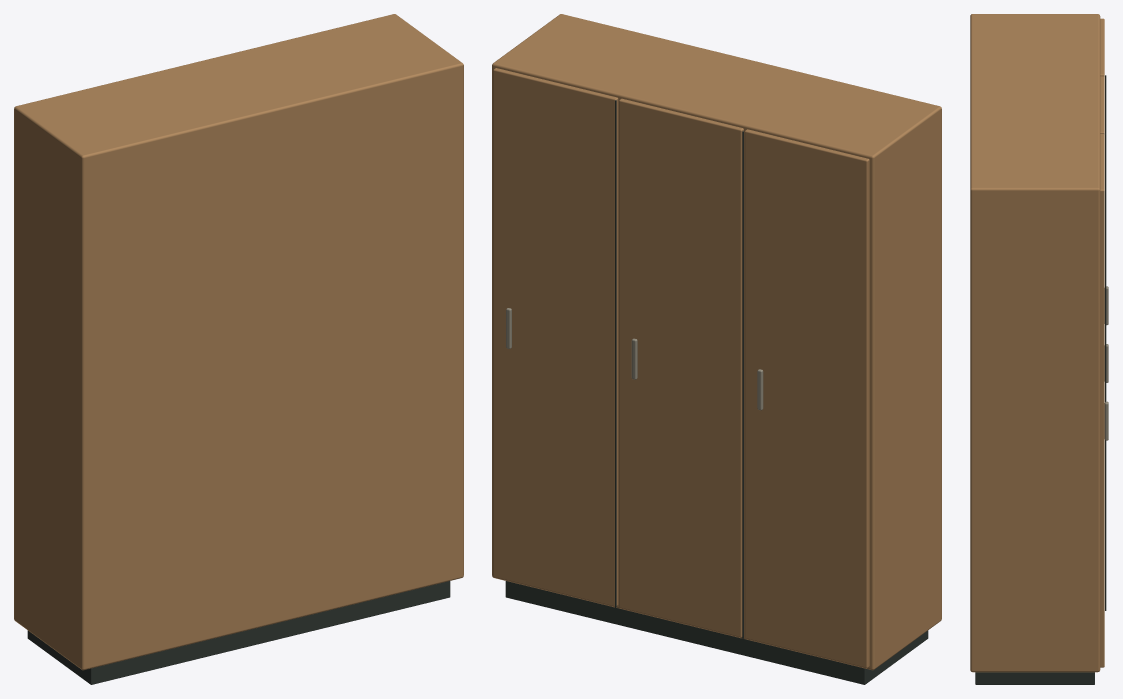
File: wardrobeModern.glb
3 renders of one model, left to right at view 1: azimuth 30°, elevation 25°; view 2: azimuth 150°, elevation 25°; view 3: azimuth 270°, elevation 25°, orthographic. The views are drawn at different scales.
Parts seen in each view (by area): view 1: wardrobeModern-part-2, wardrobeModern-part-1; view 2: wardrobeModern-part-2, wardrobeModern-part-3, wardrobeModern-part-7, wardrobeModern-part-5, wardrobeModern-part-1, wardrobeModern-part-9, wardrobeModern-part-10; view 3: wardrobeModern-part-2, wardrobeModern-part-7, wardrobeModern-part-1, wardrobeModern-part-10, wardrobeModern-part-3, wardrobeModern-part-5.
Boxes of the visible parts, box(x1,y1,x2,y2) form: wardrobeModern-part-2: box(14, 14, 463, 670); wardrobeModern-part-1: box(27, 581, 450, 684); wardrobeModern-part-2: box(492, 14, 941, 670); wardrobeModern-part-3: box(744, 129, 869, 668); wardrobeModern-part-7: box(493, 68, 618, 606); wardrobeModern-part-5: box(619, 98, 743, 637); wardrobeModern-part-1: box(505, 581, 928, 684); wardrobeModern-part-9: box(742, 131, 743, 638); wardrobeModern-part-10: box(615, 100, 616, 607); wardrobeModern-part-2: box(970, 14, 1100, 672); wardrobeModern-part-7: box(1100, 134, 1104, 667); wardrobeModern-part-1: box(975, 672, 1094, 684); wardrobeModern-part-10: box(1105, 133, 1106, 610); wardrobeModern-part-3: box(1100, 18, 1104, 76); wardrobeModern-part-5: box(1100, 76, 1104, 134).
Bounding box in the file's own units: 1.8 × 2.4 × 0.6.
